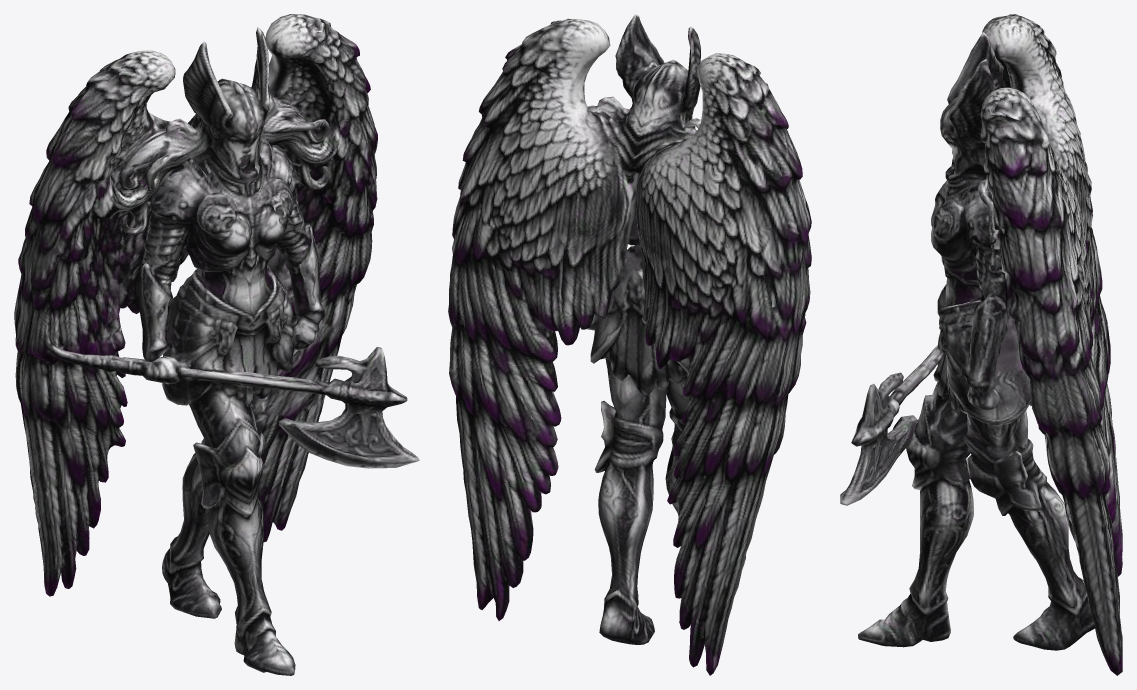
Rendered from Wodan_Valkyrie.glb.
3 views of the same model, side by side, from view 1: azimuth 30°, elevation 25°; view 2: azimuth 150°, elevation 25°; view 3: azimuth 270°, elevation 25° (orthographic).
Size of the model in its own units: 1.15 by 1.91 by 0.818.
Materials: 1 (1 with a texture image).
